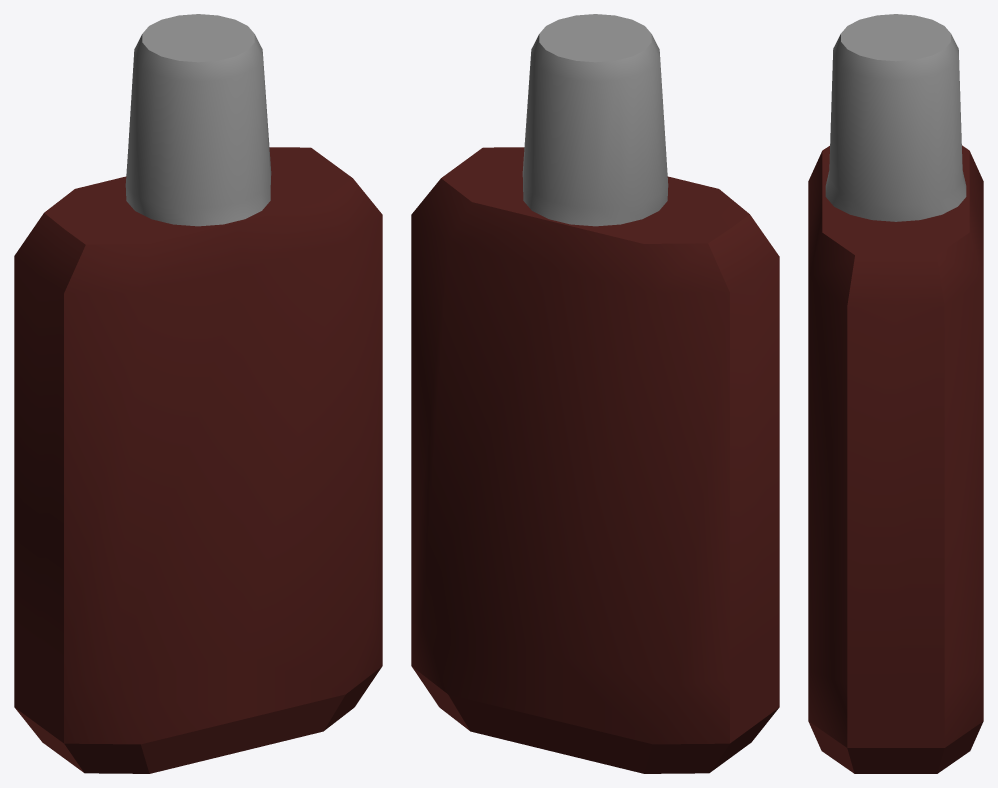
The model's file is lotion.FBX.
The picture shows the model from 3 angles, left to right: view 1: azimuth 30°, elevation 25°; view 2: azimuth 150°, elevation 25°; view 3: azimuth 270°, elevation 25°; orthographic projection. The views are drawn at different scales.
Visible parts, largest first — view 1: Lotion; view 2: Lotion; view 3: Lotion.
Part boxes in pixels (bbox=[...]): Lotion: bbox=[14, 14, 382, 773]; Lotion: bbox=[411, 14, 779, 773]; Lotion: bbox=[808, 14, 983, 773].
Size of the model in its own units: 14.27 by 29.41 by 6.96.
